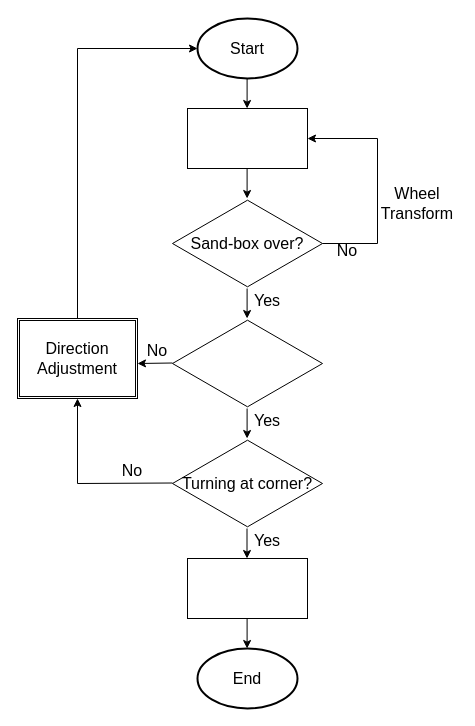
The diagram is 475 pixels wide and 726 high, and some of its shapes have lost their labels. Each missing label, with the centre of its shape:
Detect front and right distance: pixel 247 138
In straight line and planed route?: pixel 247 363
Rotate right motor for turning: pixel 247 588
